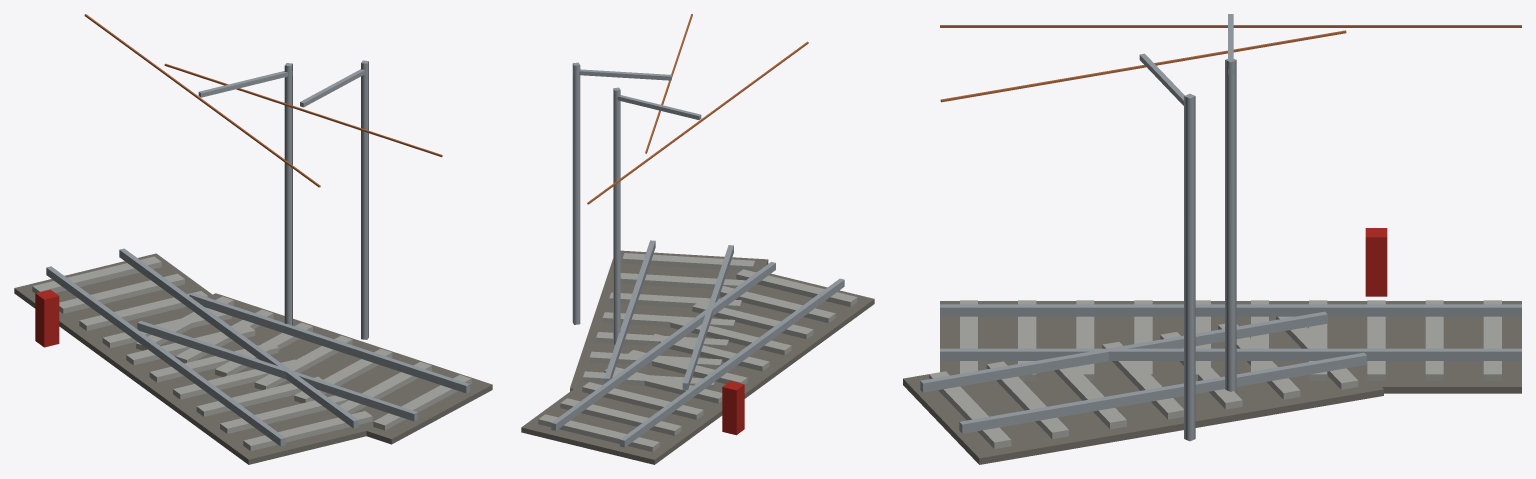
Rendered from road_rail_viii_switch_lod1.glb.
3 renders of one model, left to right at view 1: azimuth 30°, elevation 25°; view 2: azimuth 150°, elevation 25°; view 3: azimuth 270°, elevation 25°, orthographic. The views are drawn at different scales.
Visible parts, largest first — view 1: body, lever; view 2: body, lever; view 3: body, lever.
Boxes of the visible parts, left/top/right/bottom form: body: left=14, top=14, right=492, bottom=464; lever: left=35, top=289, right=59, bottom=347; body: left=521, top=14, right=874, bottom=464; lever: left=722, top=381, right=744, bottom=435; body: left=903, top=14, right=1521, bottom=464; lever: left=1365, top=228, right=1387, bottom=296.
Size of the model in its own units: 5.77 by 5.2 by 8.51.
